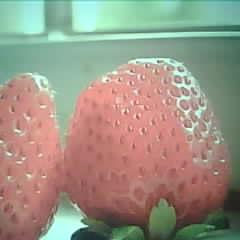straw-ripe: (65, 59, 231, 223), (0, 73, 64, 240)
